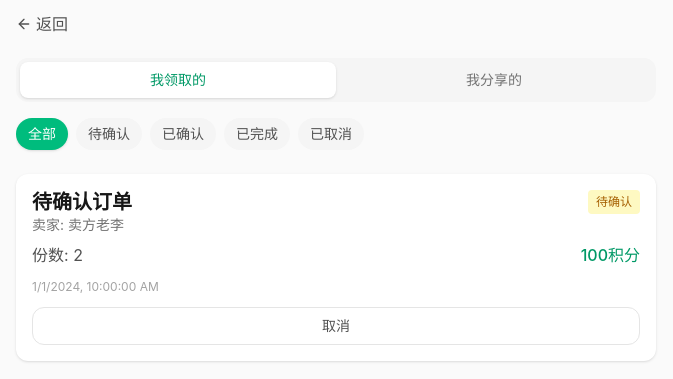
SharedKitchen 订单列表与状态操作 › seller Tab + pending 状态显示"确认"按钮
The width and height of the screenshot is (673, 379).
Expected: the heading "待确认订单" is shown, [32,190,132,214]
# 切换到 seller Tab
Click the button "我分享的" at x=494, y=80, box [336,62,652,98]
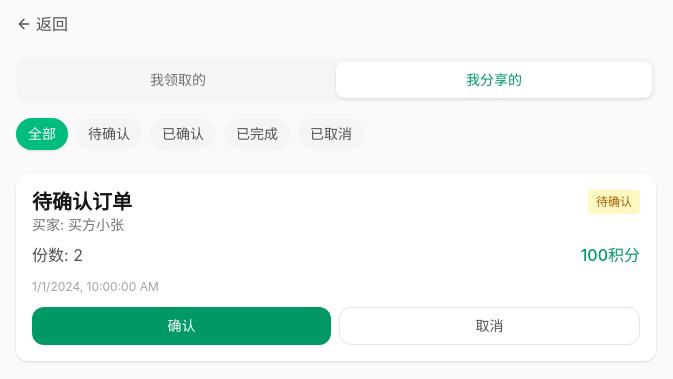
Now the text "买家: 买方小张" is shown, box [32,216,124,233]
Now the button "确认" is shown, box [32,307,331,345]
